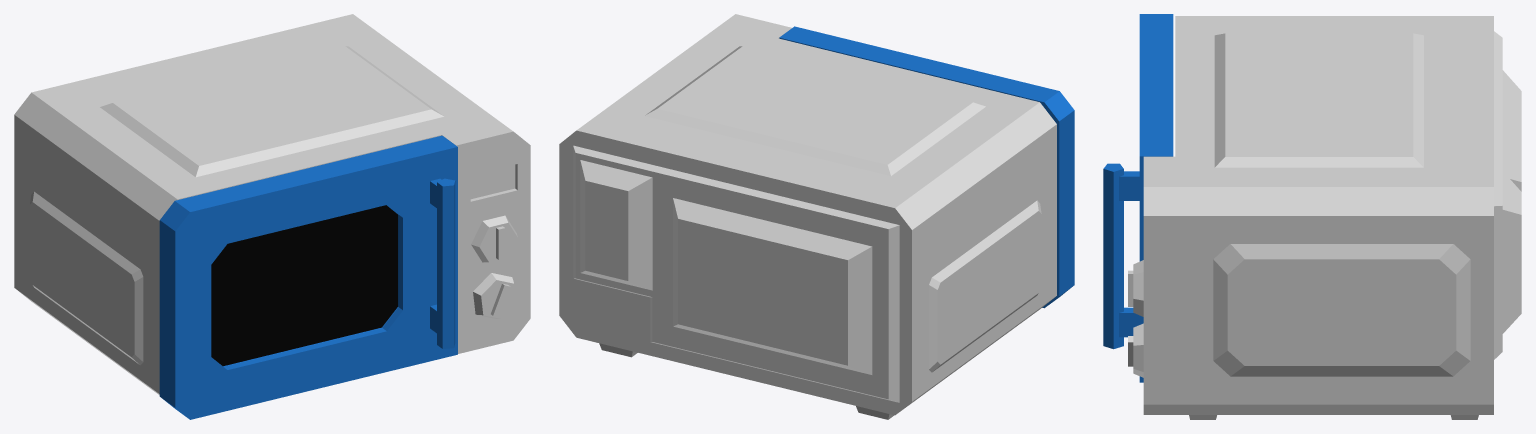
File: SM_microwave.fbx
3 views of the same model, side by side, from view 1: azimuth 30°, elevation 25°; view 2: azimuth 150°, elevation 25°; view 3: azimuth 270°, elevation 25° (orthographic). The views are drawn at different scales.
Visible parts, largest first — view 1: microwave, Cube_3; view 2: microwave, Cube_3; view 3: microwave, Cube_3.
Boxes of the visible parts, <box> form: microwave: <box>14,14,530,394</box>; Cube_3: <box>159,135,457,419</box>; microwave: <box>559,14,1056,419</box>; Cube_3: <box>779,26,1074,308</box>; microwave: <box>1128,16,1521,419</box>; Cube_3: <box>1103,14,1173,382</box>.
Size of the model in its own units: 46.58 by 27.8 by 42.3.
